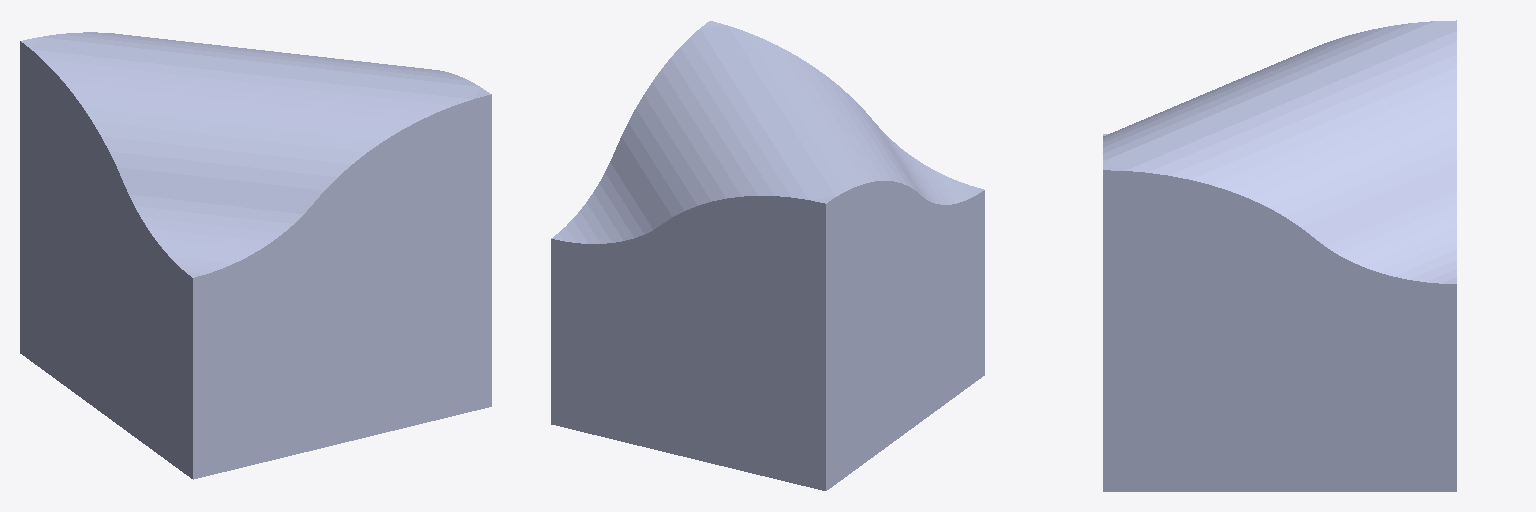
The robot description file, URDF, robot "HE_convex_terrain":
<?xml version="1.0" encoding="utf-8"?>
<robot
  name="HE_convex_terrain">
  <link name="cube">
    <inertial>
      <origin
        xyz="-0.0317966030507747 -0.000959227161374764 0.015774813620662"
        rpy="0 0 0" />
      <mass
        value="0.233431934550168" />
      <inertia
        ixx="0.000145249133958156"
        ixy="-5.62619490180081E-13"
        ixz="-7.45535891097632E-06"
        iyy="0.000151130754865822"
        iyz="5.62619487079135E-13"
        izz="0.000145249121187025" />
    </inertial>
    <visual>
      <origin
        xyz="0 0 0"
        rpy="0 0 0" />
      <geometry>
        <mesh
          filename="HE_convex_terrain.obj"/>
      </geometry>
      <material
        name="">
        <color
          rgba="0.792156862745098 0.819607843137255 0.933333333333333 1" />
      </material>
    </visual>
    <collision>
      <origin
        xyz="0 0 0"
        rpy="0 0 0" />
      <geometry>
        <mesh
          filename="HE_convex_terrain.obj"/>
      </geometry>
    </collision>
  </link>
</robot>

--- Facts derived from the render (not from the file) ---
Views: 3 orthographic renders of the robot side by side, from view 1: azimuth 30°, elevation 25°; view 2: azimuth 150°, elevation 25°; view 3: azimuth 270°, elevation 25°.
Model HE_convex_terrain with 1 links and 0 joints (none), rooted at cube, posed every joint at zero.
Links seen in each view (by area): view 1: cube; view 2: cube; view 3: cube.
Link boxes in pixels (box(x1,y1,x2,y2)): cube: box(20, 32, 491, 479); cube: box(551, 21, 984, 490); cube: box(1103, 20, 1456, 491).
Size in the robot's own frame: 0.0635 by 0.0635 by 0.0635 metres.
1 mesh visuals loaded from 1 distinct referenced files (1 OBJ).
